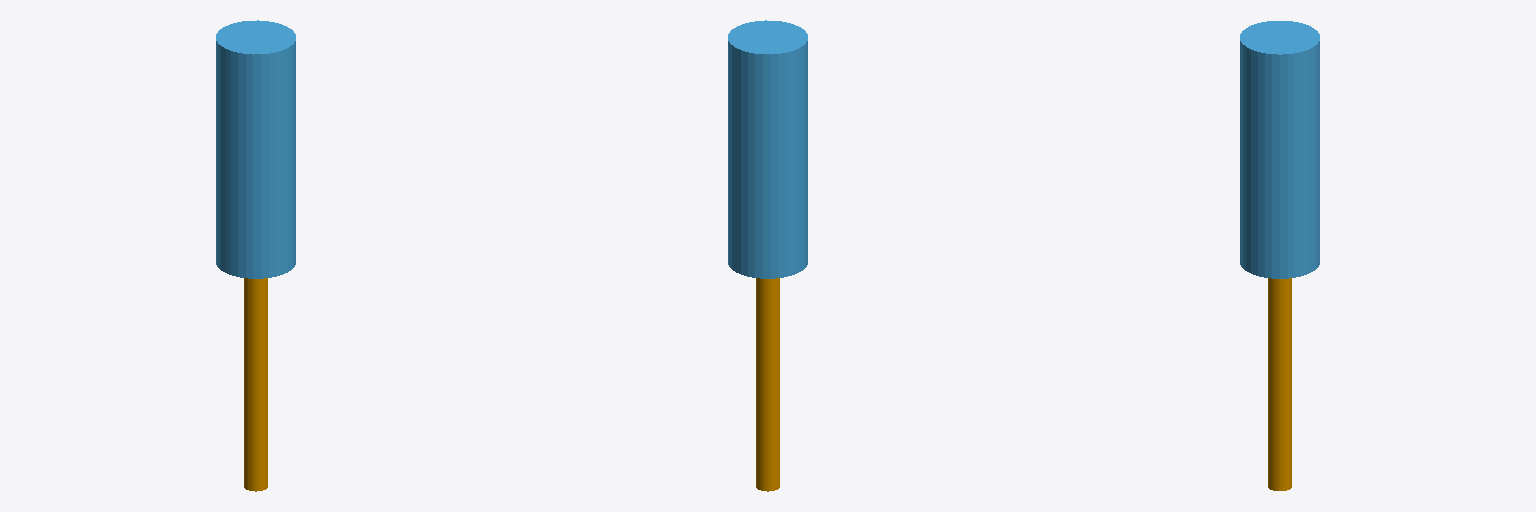
The robot description file, URDF, robot "screwdriver_on_the_table":
<?xml version="1.0" ?>
<!-- this is the one without any virtual joints and links -->
<robot name="screwdriver_on_the_table">
<link name="screwdriver_stick">
    <inertial>
      <mass value="0.05"/>
      <!-- <friction value="1.0"/> -->
      <inertia ixx="0.000041979" ixy="0.0" ixz="0.0" iyy="0.000041979" iyz="0.0" izz="0.000000625"/>
    </inertial>
    <visual>
        <origin rpy="0 0 0" xyz="0 0 0.05"/>
        <geometry>
            <cylinder radius="0.005" length="0.1"/>
        </geometry>
        <!-- <material name="White">
	 	    <color rgba="0.9 0.9 0.9 0.5"/>
        </material> -->
    </visual>
    <collision>
        <origin rpy="0 0 0" xyz="0 0 0.05"/>
        <geometry>
            <cylinder radius="0.005" length="0.1"/>
        </geometry>
    </collision>
</link>

<gazebo reference="screwdriver_body">
    <mu1>1.159224</mu1>
    <mu2>1.141590</mu2>
    <!-- Isaac Sim maps mu1/mu2 to PhysX static/dynamic friction during URDF→USD import -->
</gazebo>

<joint name="screwdriver_stick_body_joint" type="fixed">
    <parent link="screwdriver_stick"/>
    <child link="screwdriver_body"/>
    <origin rpy="0 0 0" xyz="0 0 0.1"/> 
    <axis xyz="0 0 1"/>
</joint>

<link name="screwdriver_body">
    <inertial>
      <mass value="0.134187"/>
      <inertia ixx="0.000120727" ixy="0.0" ixz="0.0" iyy="0.000120727" iyz="0.0" izz="0.000017810"/>
    </inertial>
    <visual>
        <origin rpy="0 0 0" xyz="0 0 0.05"/>
        <geometry>
            <cylinder radius="0.016293" length="0.1"/>
        </geometry>
        <!-- <material name="Red1">
	 	    <color rgba="0.9 0. 0. 0.5"/>
        </material> -->
    </visual>
    <collision>
        <origin rpy="0 0 0" xyz="0 0 0.05"/>
        <geometry>
            <cylinder radius="0.016293" length="0.1"/>
        </geometry>
    </collision>
</link>

<!-- <joint name="screwdriver_body_cap_joint" type="revolute">
    <parent link="screwdriver_body"/>
    <child link="screwdriver_cap"/>
    <origin rpy="0 0 0" xyz="0 0 0.1"/> 
    <axis xyz="0 0 1"/>
</joint>

<link name="screwdriver_cap">
    <inertial>
      <mass value="0.005"/>
      <inertia ixx="0.00001" ixy="0.0" ixz="0.0" iyy="0.000005" iyz="0.0" izz="0.000005"/>
    </inertial>
    <visual>
        <origin rpy="0 0 0" xyz="0 0 0.0006"/>
        <geometry>
            <cylinder radius="0.02" length="0.001"/>
        </geometry>
        <material name="Yellow">
	 	    <color rgba="0.9 0.9 0. 1.0"/>
        </material>
    </visual>
    <collision>
        <origin rpy="0 0 0" xyz="0 0 0.0005"/>
        <geometry>
            <cylinder radius="0.02" length="0.001"/>
        </geometry>
    </collision>
</link> -->

</robot>

--- Facts derived from the render (not from the file) ---
The picture shows the robot from 3 angles, left to right: view 1: azimuth 30°, elevation 25°; view 2: azimuth 150°, elevation 25°; view 3: azimuth 270°, elevation 25°; orthographic projection.
Model screwdriver_on_the_table with 2 links and 1 joints (1 fixed), rooted at screwdriver_stick, posed every joint at zero.
Links seen in each view (by area): view 1: screwdriver_body, screwdriver_stick; view 2: screwdriver_body, screwdriver_stick; view 3: screwdriver_body, screwdriver_stick.
Boxes of the visible links, box(x1,y1,x2,y2) form: screwdriver_body: box(216, 20, 295, 278); screwdriver_stick: box(244, 278, 267, 491); screwdriver_body: box(728, 20, 807, 278); screwdriver_stick: box(756, 278, 779, 491); screwdriver_body: box(1240, 21, 1319, 278); screwdriver_stick: box(1268, 278, 1291, 490).
Bounding box of the posed robot: 0.0326 × 0.0326 × 0.2 m (x, y, z).
Geometry: primitives only (box / cylinder / sphere), no mesh files.
